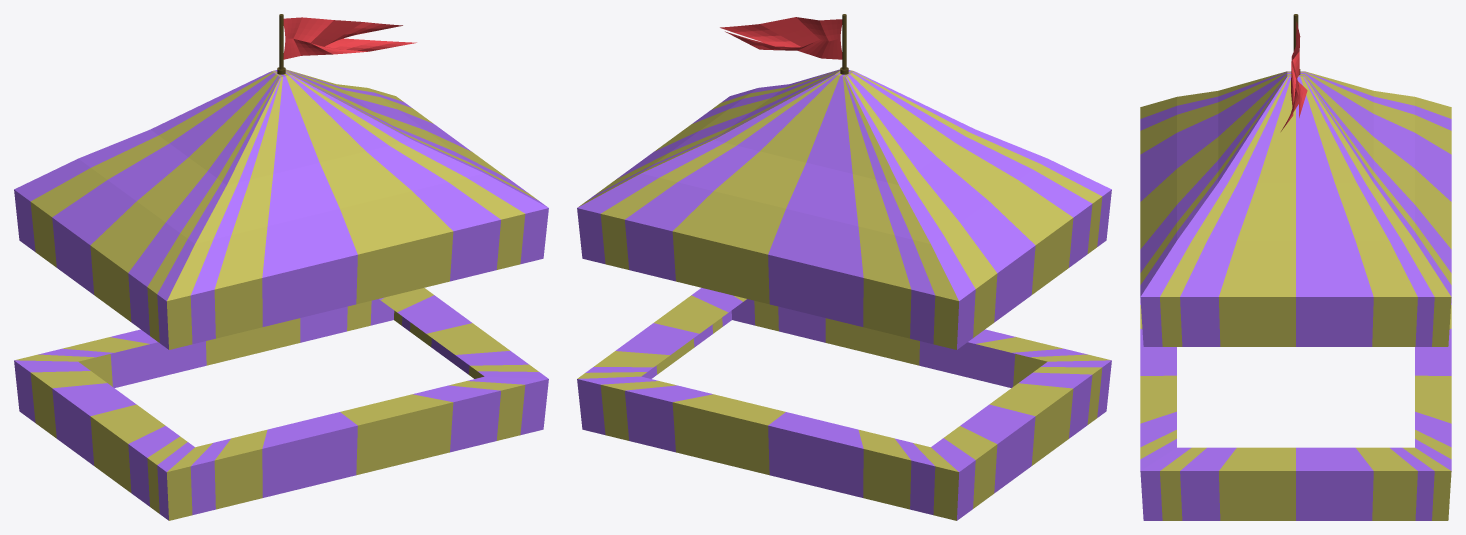
Rendered from tienda2 (amarillo).glb.
The picture shows the model from 3 angles, left to right: view 1: azimuth 30°, elevation 25°; view 2: azimuth 150°, elevation 25°; view 3: azimuth 270°, elevation 25°; orthographic projection.
Visible parts, largest first — view 1: Cube, Plane; view 2: Cube, Plane; view 3: Cube, Plane.
Boxes of the visible parts, box(x1,y1,x2,y2) form: Cube: box(14, 69, 548, 520); Plane: box(283, 17, 416, 59); Cube: box(577, 69, 1111, 520); Plane: box(720, 17, 842, 59); Cube: box(1140, 71, 1451, 520); Plane: box(1281, 21, 1307, 131).
Bounding box in the file's own units: 14.08 × 14.28 × 9.75.
